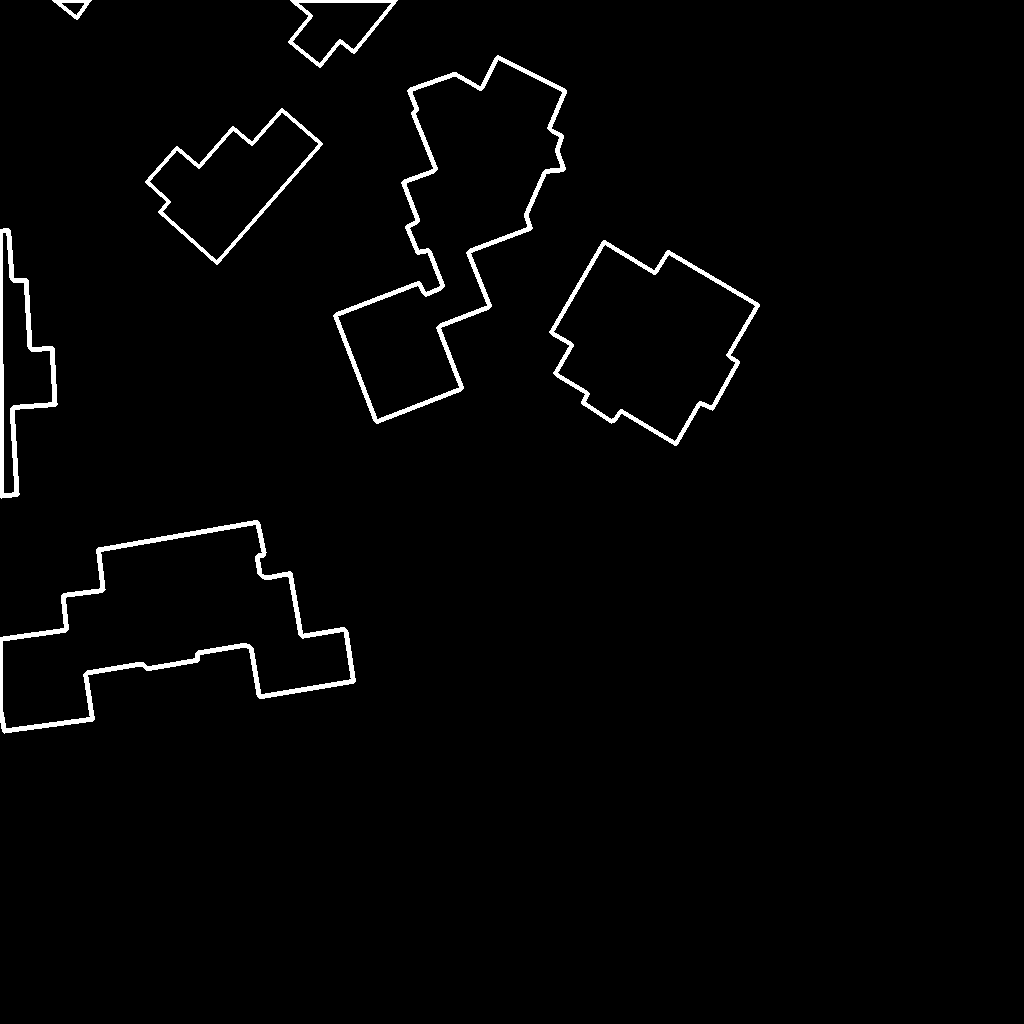building: (335, 57, 566, 423), (0, 522, 355, 732), (551, 242, 759, 445), (147, 110, 322, 264), (0, 230, 56, 497), (290, 0, 397, 67), (54, 0, 91, 19)
